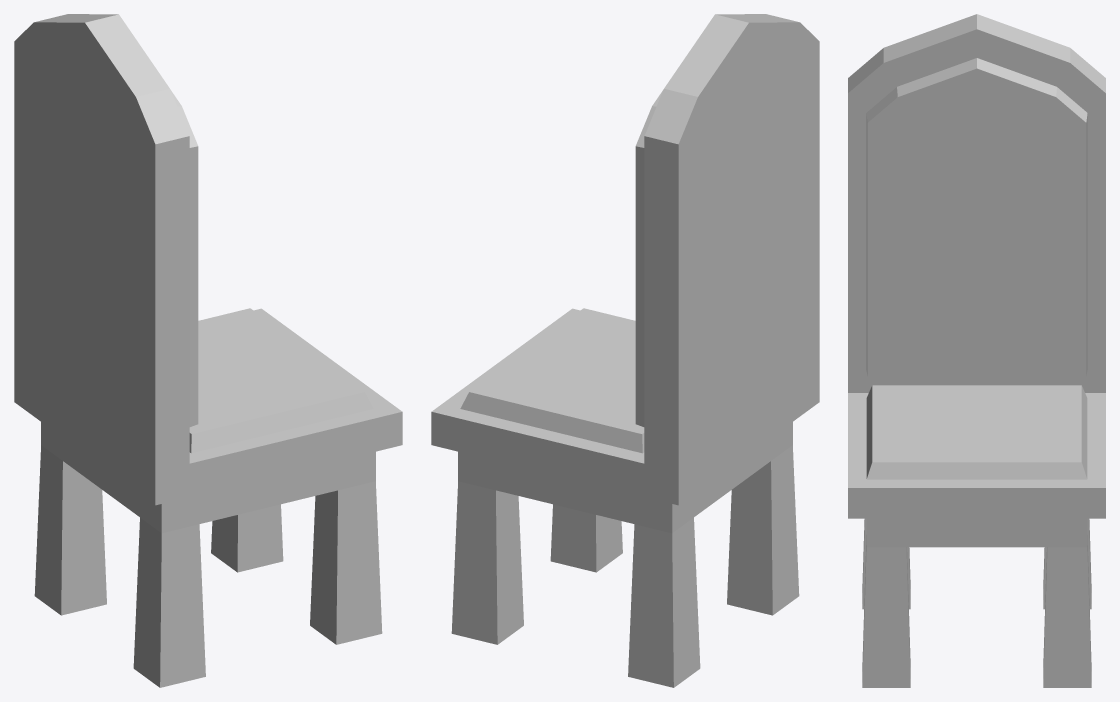
The model's file is ChairCushioned.glb.
3 renders of one model, left to right at view 1: azimuth 30°, elevation 25°; view 2: azimuth 150°, elevation 25°; view 3: azimuth 270°, elevation 25°, orthographic. The views are drawn at different scales.
Visible parts, largest first — view 1: ChairCushioned; view 2: ChairCushioned; view 3: ChairCushioned.
Boxes of the visible parts, bbox=[...] form: ChairCushioned: bbox=[14, 14, 402, 687]; ChairCushioned: bbox=[431, 14, 819, 687]; ChairCushioned: bbox=[848, 14, 1105, 687].
Bounding box in the file's own units: 0.4379 × 1.05 × 0.4326.
Materials: 3 (3 with a texture image).
